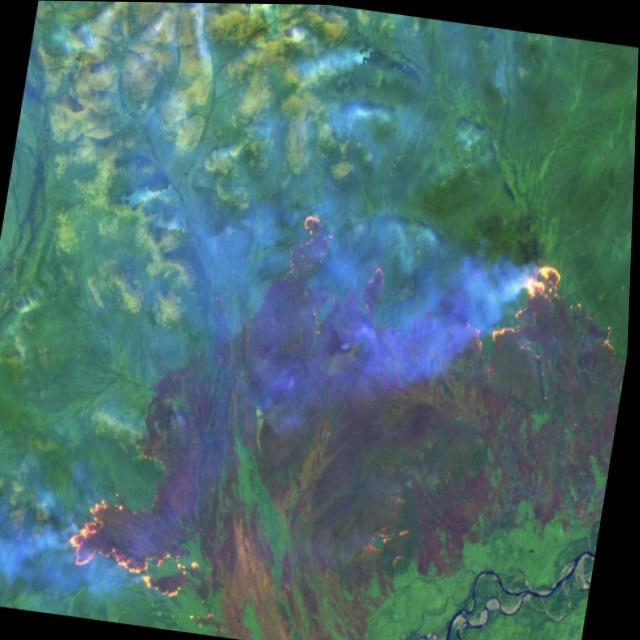fire: (267, 198, 634, 382), (59, 484, 217, 612)
